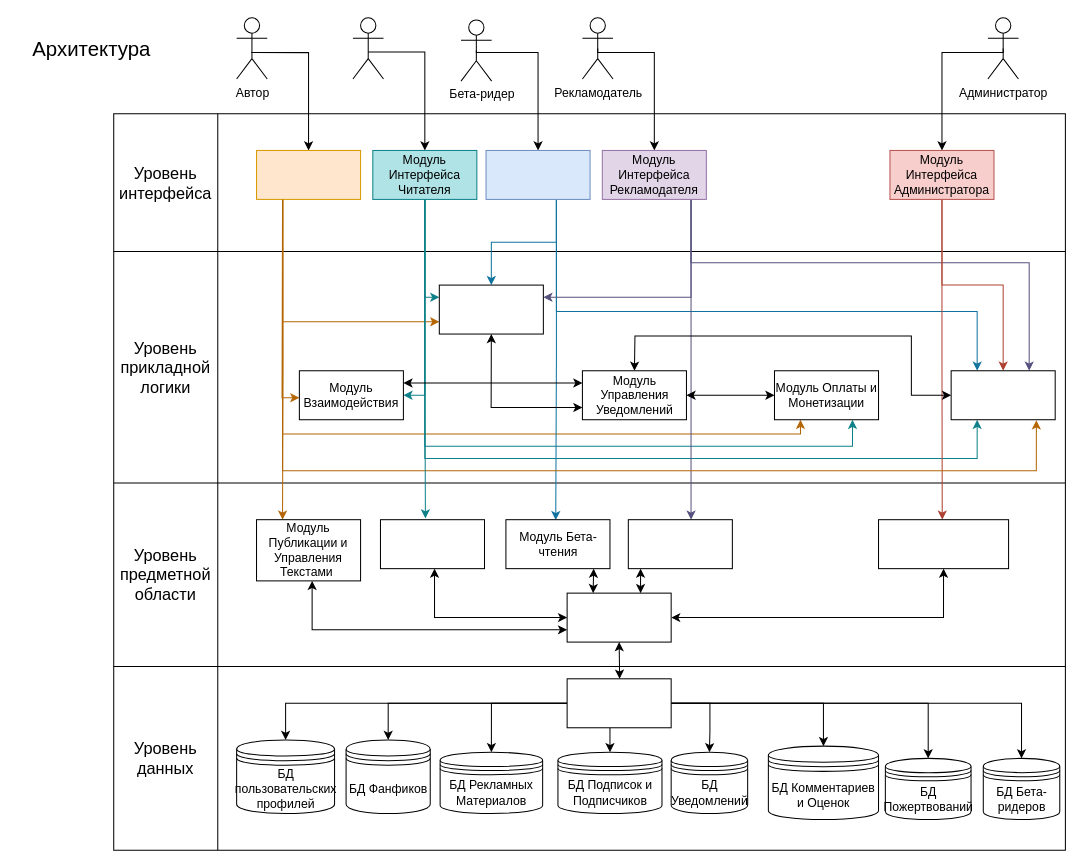
The diagram is 1083 pixels wide and 868 high, and some of its shapes have lost their labels. Here are the shapes that lost their labels. From the top down, the centre of each, then its label:
point 368,48: Читатель
point 308,174: Модуль Интерфейса Автора
point 537,174: Модуль Интерфейса Бета-ридера
point 490,309: Модуль Регистрации и Авторизации
point 1002,395: Модуль Технической поддержки
point 431,544: Модуль Чтения
point 679,544: Модуль Управления рекламы
point 943,544: Модуль Администрирования
point 618,617: Модуль Ведения Статистики
point 618,703: Модуль Базы Данных
